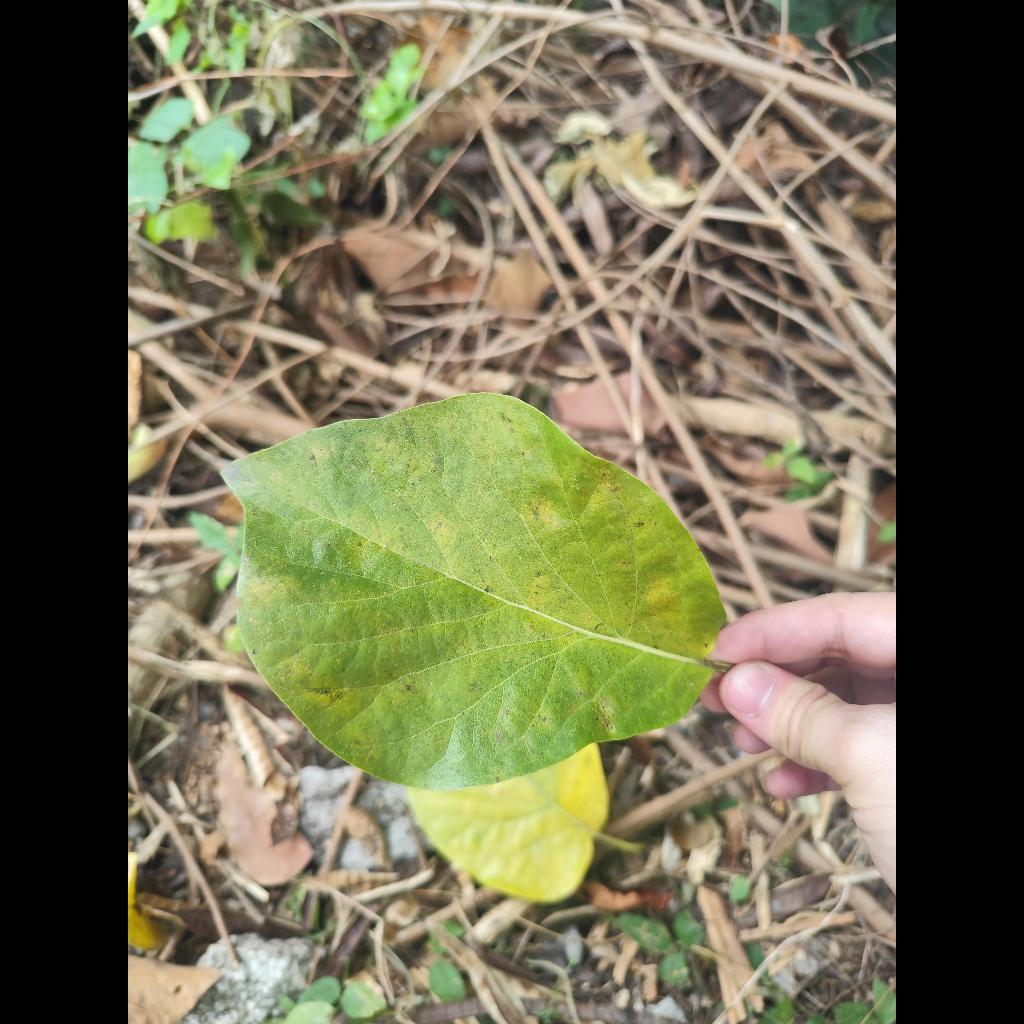deficiencia_nutricional: (224, 394, 724, 790)
